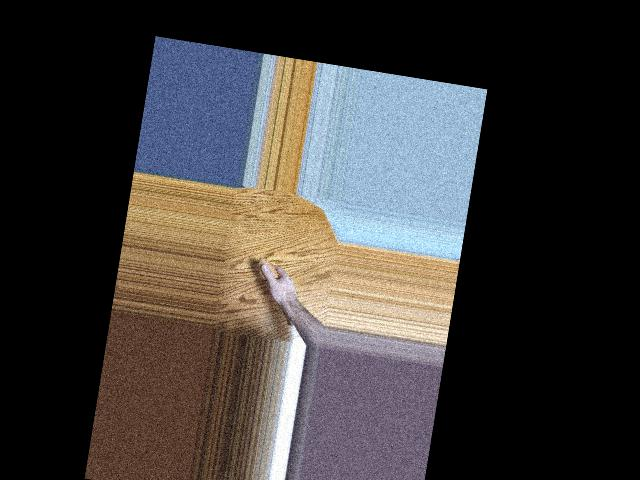sweet_potato: (248, 256, 307, 329)
